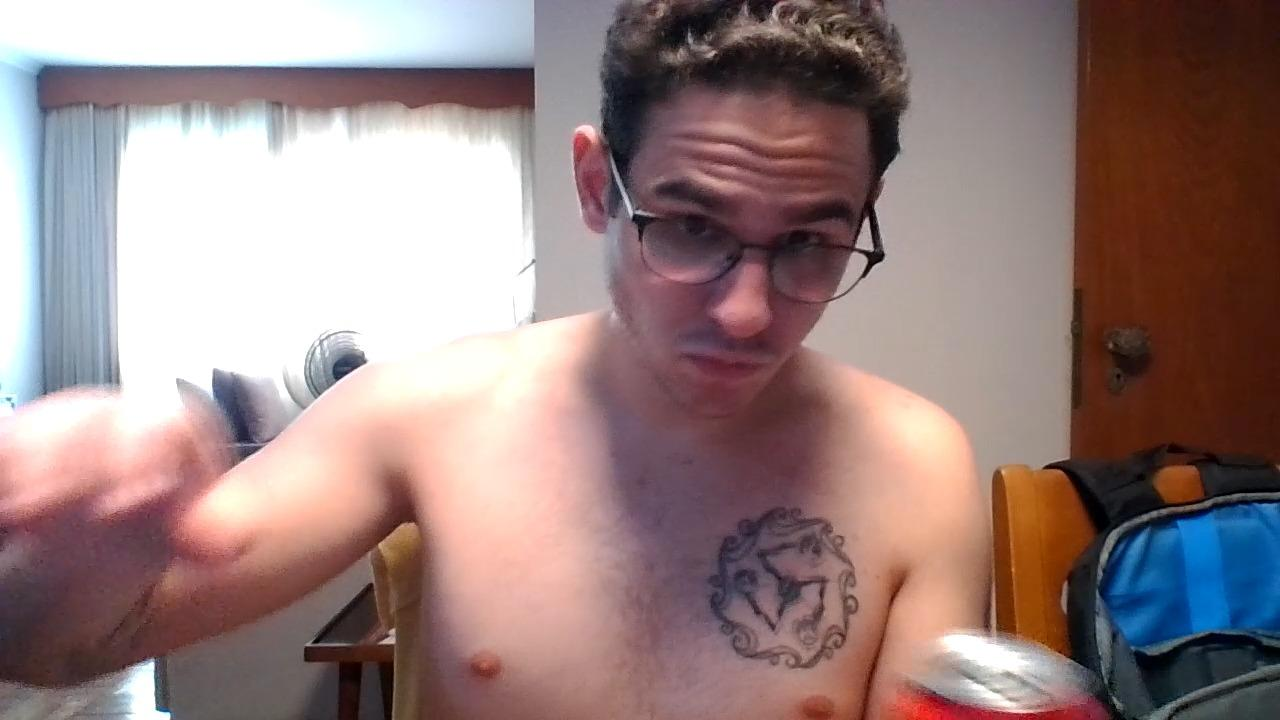coke: (881, 625, 1116, 716)
